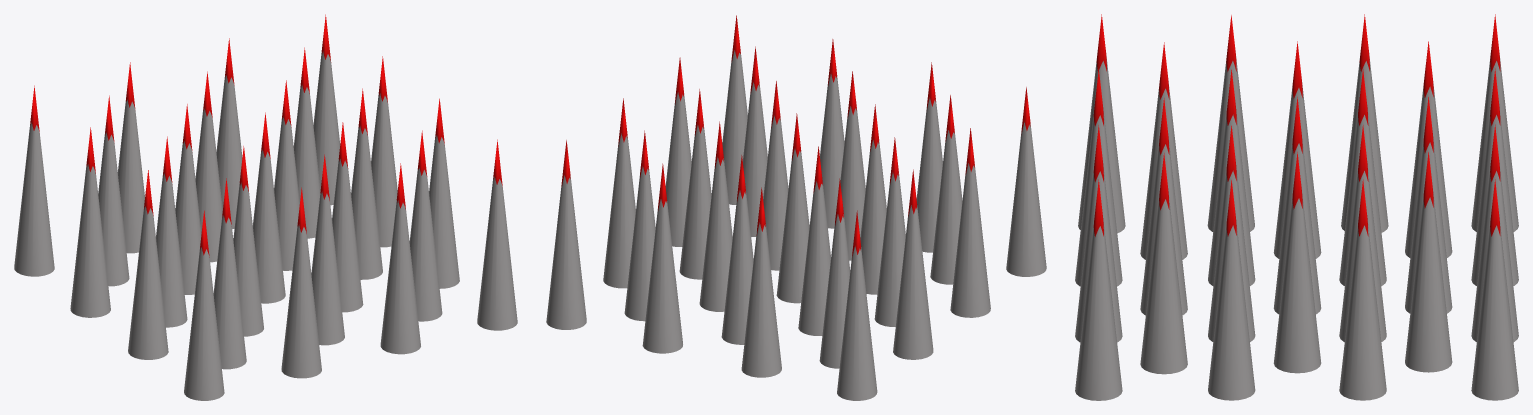
Rendered from LP_Spikes.fbx.
3 views of the same model, side by side, from view 1: azimuth 30°, elevation 25°; view 2: azimuth 150°, elevation 25°; view 3: azimuth 270°, elevation 25° (orthographic). The views are drawn at different scales.
Visible parts, largest first — view 1: Spikes; view 2: Spikes; view 3: Spikes.
Part boxes in pixels (x1,y1,x2,y2): Spikes: (14,14,517,400); Spikes: (546,15,1046,400); Spikes: (1075,14,1518,400).
Size of the model in its own units: 2.14 by 1.14 by 2.17.
